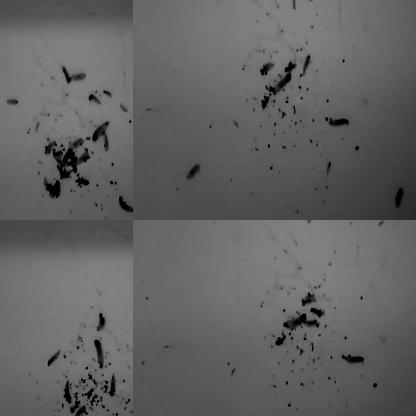PtecticusTenebrifer: (272, 73, 292, 95), (282, 313, 306, 330), (91, 120, 109, 142), (93, 338, 105, 368), (118, 195, 133, 216), (47, 348, 61, 368), (328, 116, 351, 128), (186, 161, 199, 182), (67, 137, 84, 152), (44, 139, 58, 155), (395, 186, 404, 210), (96, 313, 106, 333), (64, 380, 72, 404), (344, 355, 364, 364), (303, 54, 312, 73), (6, 96, 19, 109), (62, 66, 71, 84), (102, 131, 110, 151), (71, 73, 86, 83), (88, 93, 100, 104), (74, 405, 85, 416), (281, 220, 300, 226), (111, 374, 116, 396), (302, 0, 314, 9), (54, 0, 71, 6), (102, 89, 112, 99), (339, 0, 348, 11), (355, 0, 373, 5), (64, 220, 73, 230), (0, 391, 9, 401), (169, 0, 185, 5), (120, 103, 128, 112), (0, 220, 10, 227), (323, 220, 336, 225)
